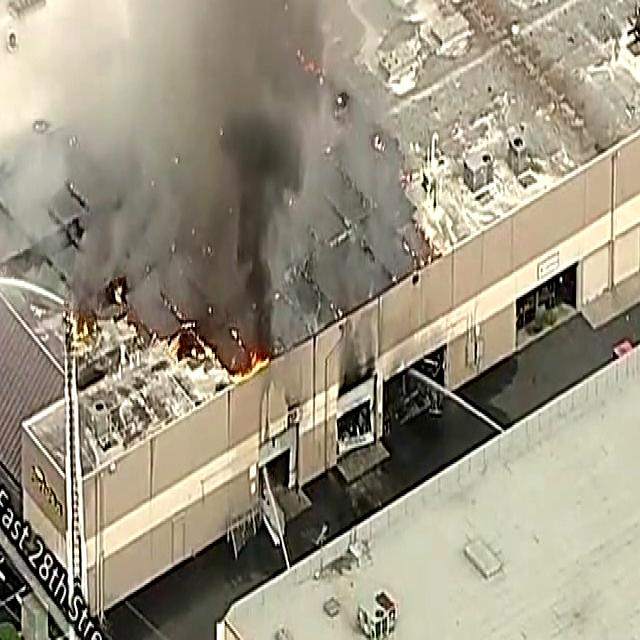smoke: (188, 0, 324, 240)
